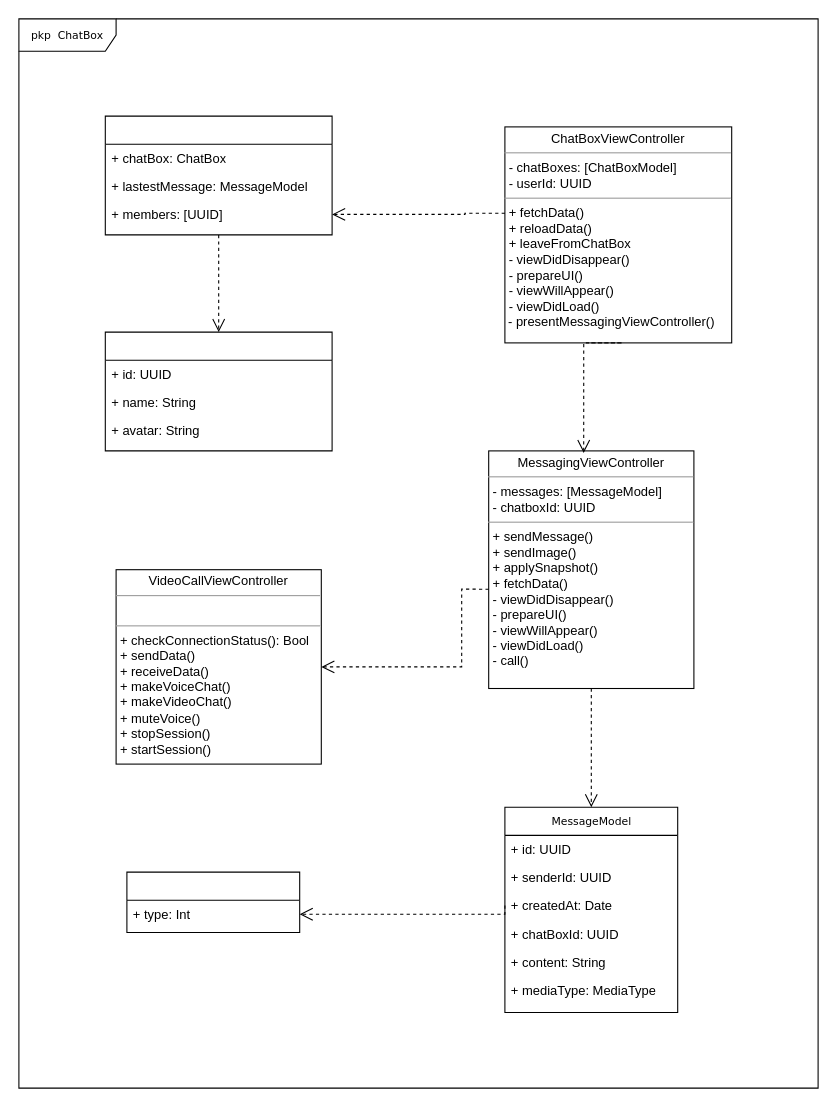
Image size: 837x1107. Some labels were removed from this diagram. The shapes that lost their labels are listed below. From the top down, each one's box as (x1, y1, x2, y2) in pixels, then its label:
(104, 115, 332, 235): ChatBoxModel
(104, 331, 332, 451): ChatBox
(126, 871, 300, 933): MediaType
